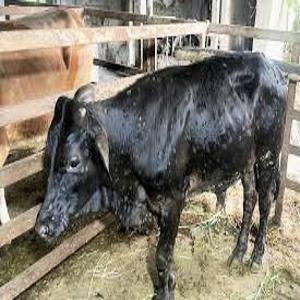lumpy skin diesease: (32, 50, 293, 299), (0, 5, 96, 231)
